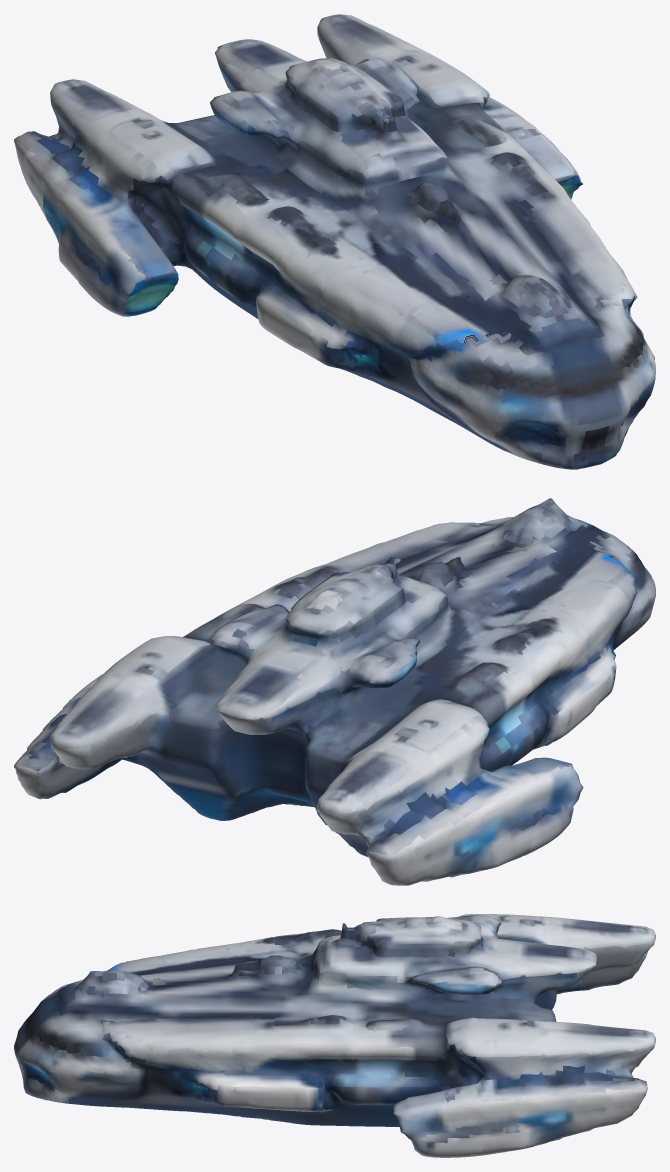
Rendered from alliance_battleship.remesh.glb.
3 views of the same model, one above another, from view 1: azimuth 30°, elevation 25°; view 2: azimuth 150°, elevation 25°; view 3: azimuth 270°, elevation 25° (orthographic). The views are drawn at different scales.
Parts seen in each view (by area): view 1: model; view 2: model; view 3: model.
Boxes of the visible parts, left/top/right/bottom form: model: left=14, top=14, right=655, bottom=469; model: left=14, top=498, right=655, bottom=885; model: left=14, top=914, right=655, bottom=1157.
Size of the model in its own units: 1.24 by 0.5907 by 1.88.
Materials: 1 (1 with a texture image).
